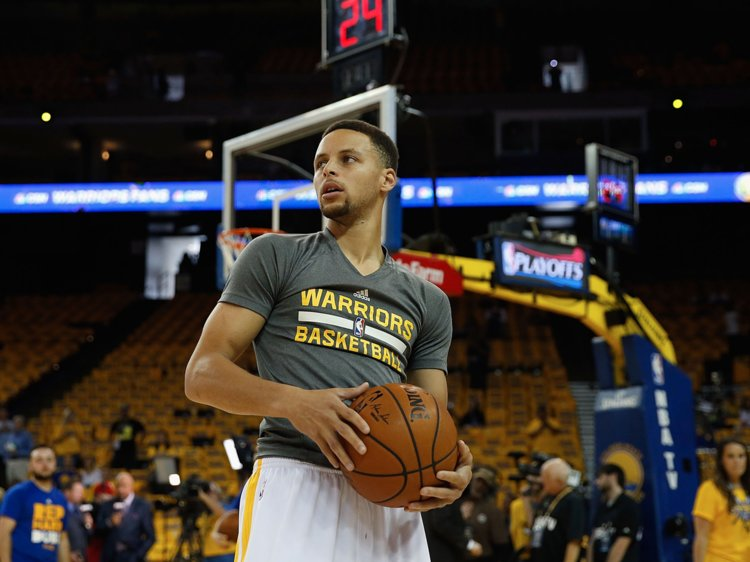Basketball: (342, 381, 457, 510)
